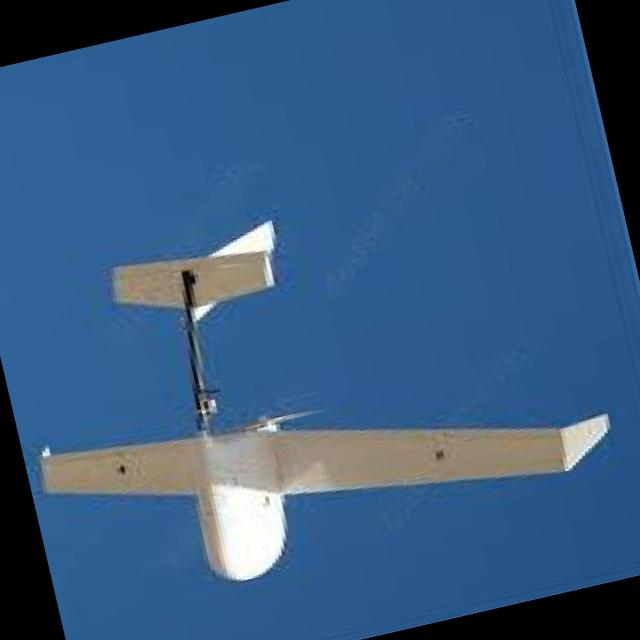UAV: (0, 113, 640, 629)
